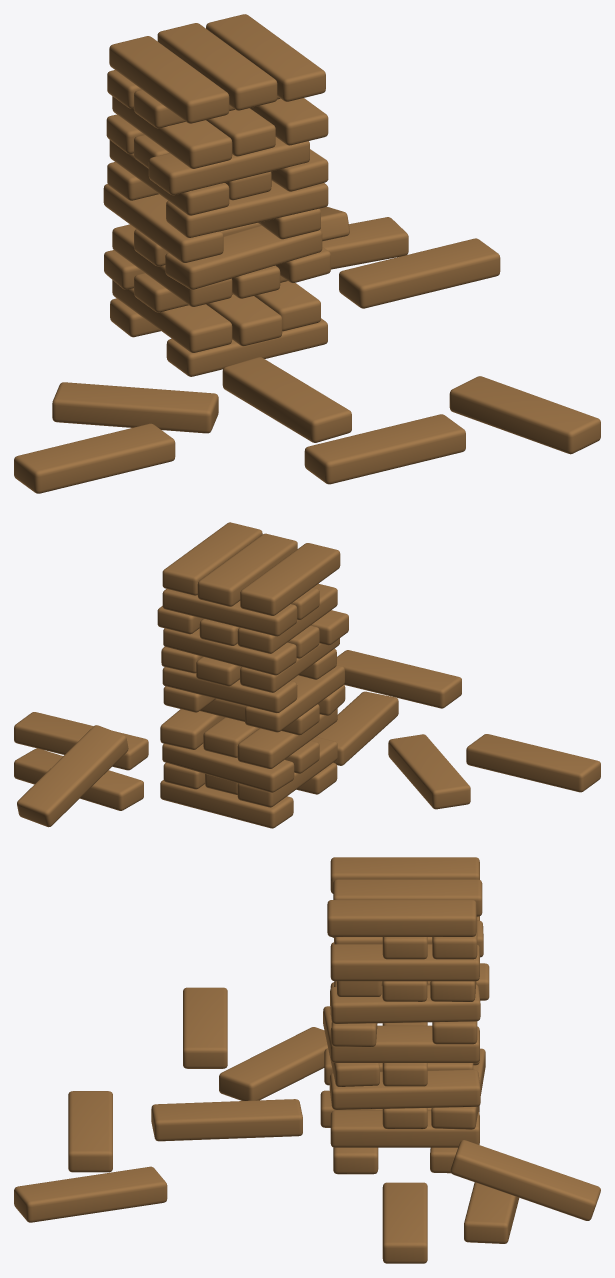
The model's file is Prop_Jenga.fbx.
The picture shows the model from 3 angles, top to bottom: view 1: azimuth 30°, elevation 25°; view 2: azimuth 150°, elevation 25°; view 3: azimuth 270°, elevation 25°; orthographic projection. The views are drawn at different scales.
Parts seen in each view (by area): view 1: Prop_Jenga; view 2: Prop_Jenga; view 3: Prop_Jenga.
Boxes of the visible parts, x1,y1,x2,y2 form: Prop_Jenga: [14, 14, 600, 493]; Prop_Jenga: [14, 522, 600, 828]; Prop_Jenga: [14, 857, 600, 1263].
Bounding box in the file's own units: 6.3 × 2.93 × 6.06.
